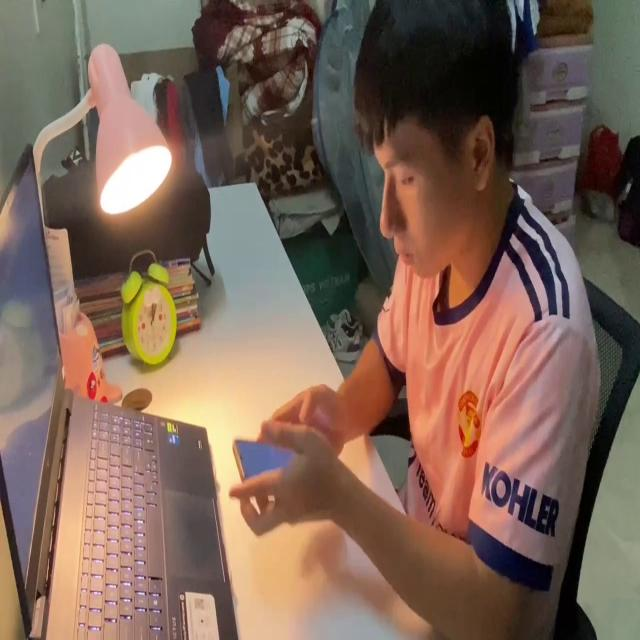laptop: (0, 138, 239, 640)
phone: (233, 432, 306, 484)
student: (228, 18, 602, 640)
